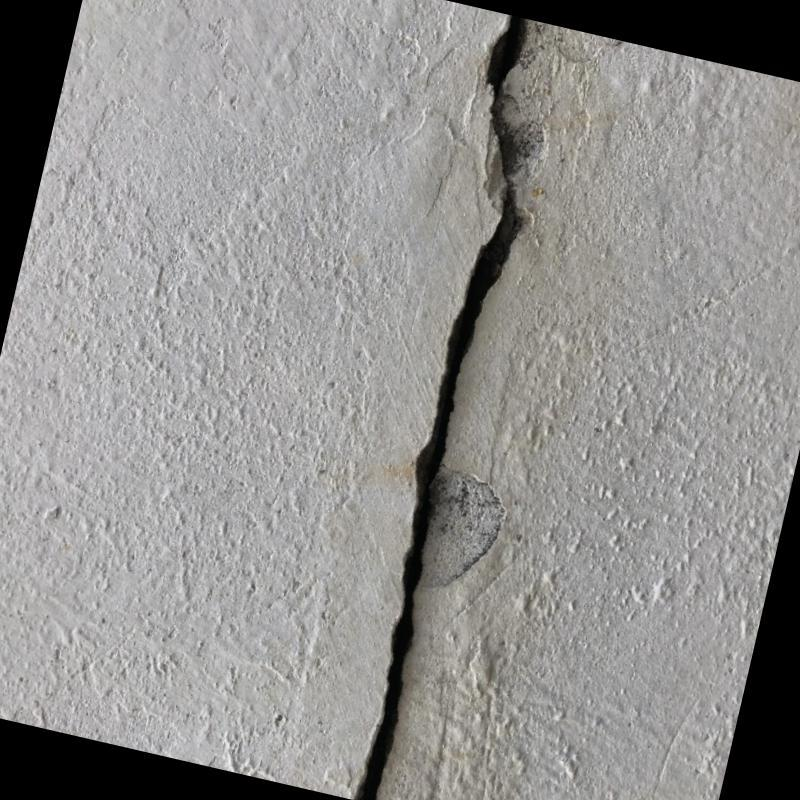pothole: (355, 15, 529, 800)
